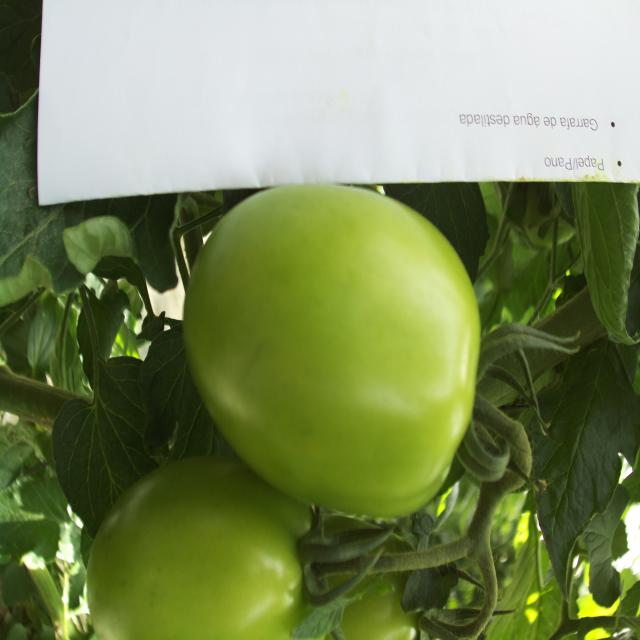yesil: (153, 158, 492, 537)
